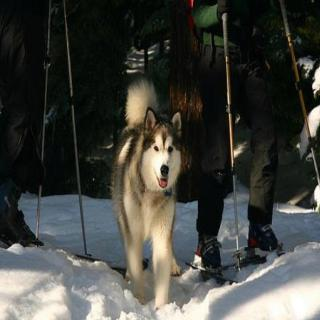dog: (138, 105, 187, 199)
nose: (160, 162, 170, 177)
